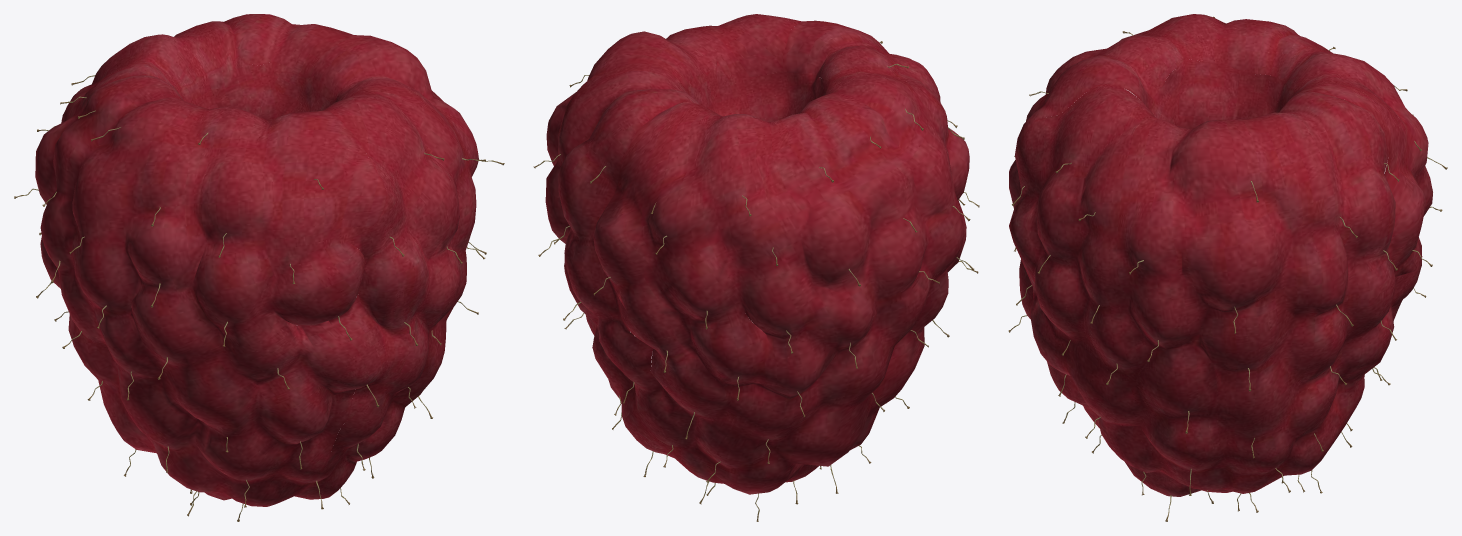
File: raspberry.glb
3 views of the same model, side by side, from view 1: azimuth 30°, elevation 25°; view 2: azimuth 150°, elevation 25°; view 3: azimuth 270°, elevation 25° (orthographic). The views are drawn at different scales.
Visible parts, largest first — view 1: raspberry; view 2: raspberry; view 3: raspberry.
Part boxes in pixels (x1,y1,x2,y2): raspberry: [14, 14, 504, 521]; raspberry: [533, 14, 979, 521]; raspberry: [1008, 14, 1447, 521].
Bounding box in the file's own units: 0.9778 × 1 × 0.9283.
1 material, 1 textured.
